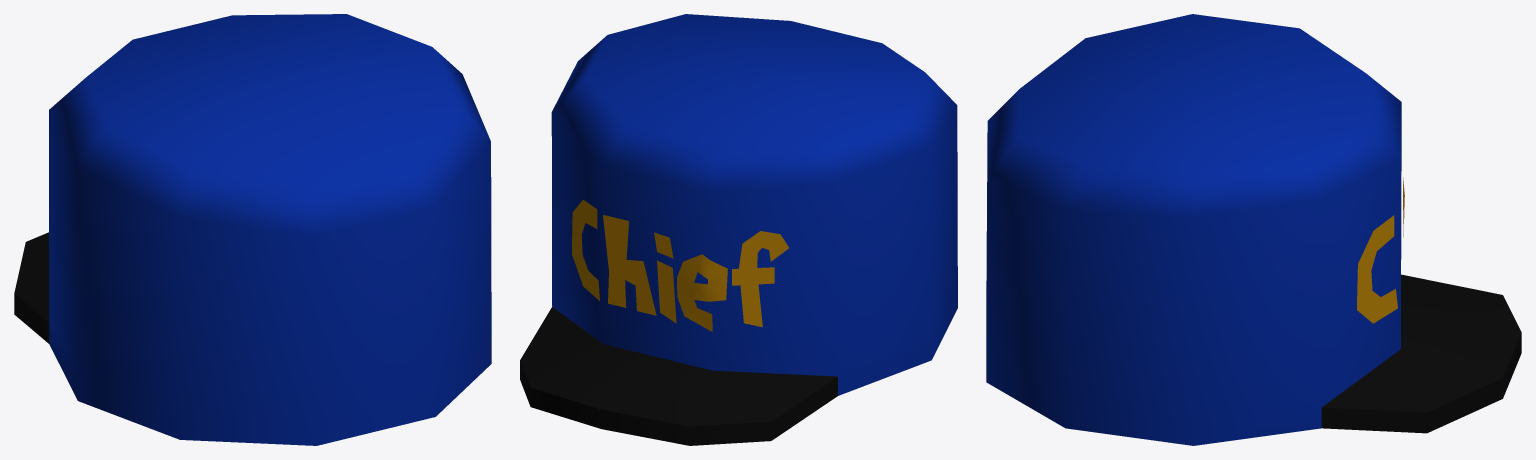
File: hat_dogchief.glb
3 views of the same model, side by side, from view 1: azimuth 30°, elevation 25°; view 2: azimuth 150°, elevation 25°; view 3: azimuth 270°, elevation 25° (orthographic). The views are drawn at different scales.
Visible parts, largest first — view 1: hat_dogchief; view 2: hat_dogchief; view 3: hat_dogchief.
Part boxes in pixels (box(x1,y1,x2,y2)): hat_dogchief: box(14, 14, 491, 445); hat_dogchief: box(520, 14, 957, 445); hat_dogchief: box(986, 14, 1521, 445).
Size of the model in its own units: 0.2821 by 0.198 by 0.3465.
